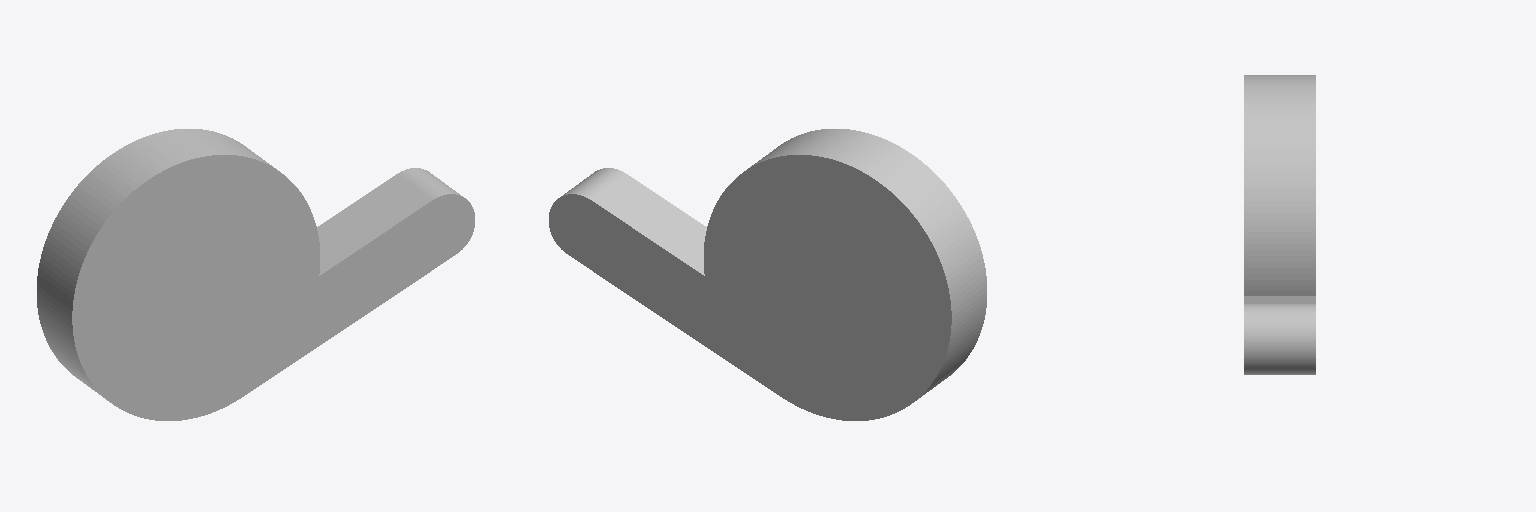
The model's file is connectorMover.obj.
3 renders of one model, left to right at view 1: azimuth 30°, elevation 25°; view 2: azimuth 150°, elevation 25°; view 3: azimuth 270°, elevation 25°, orthographic.
Parts seen in each view (by area): view 1: Part_Studio_1_-_ConnectorMover; view 2: Part_Studio_1_-_ConnectorMover; view 3: Part_Studio_1_-_ConnectorMover.
Part boxes in pixels (bbox=[...]): Part_Studio_1_-_ConnectorMover: bbox=[37, 129, 474, 420]; Part_Studio_1_-_ConnectorMover: bbox=[549, 129, 986, 420]; Part_Studio_1_-_ConnectorMover: bbox=[1244, 75, 1315, 374].
Bounding box in the file's own units: 650 × 400 × 100.